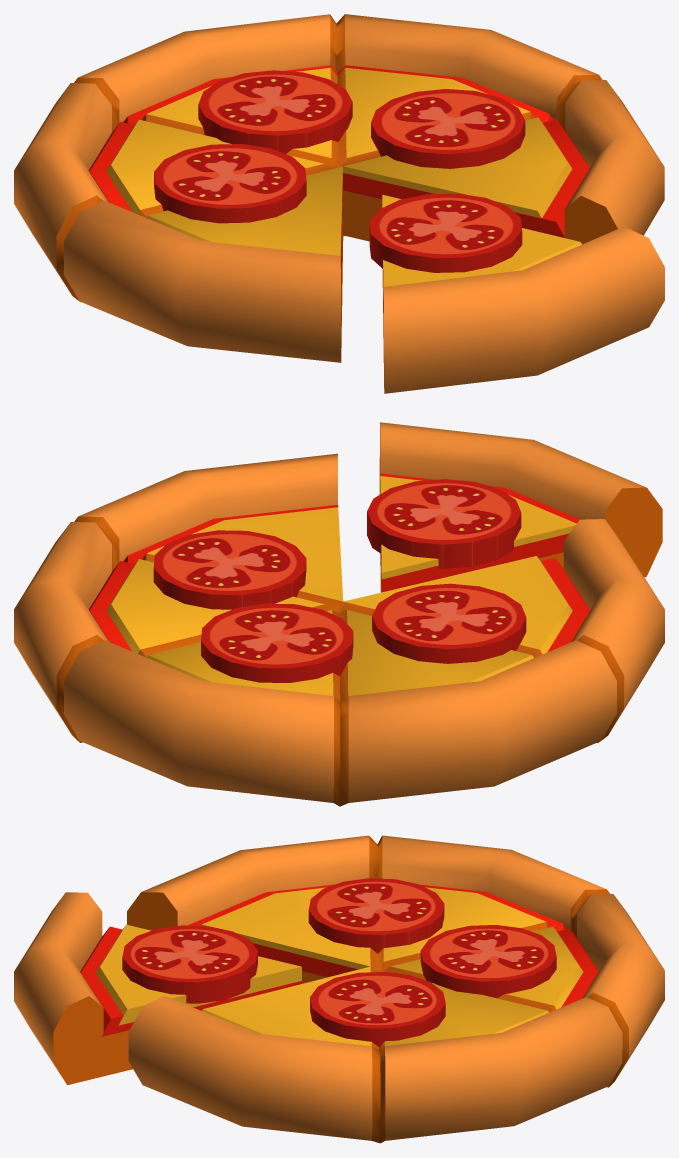
The model's file is Pizza_02_Slice.fbx.
3 views of the same model, one above another, from view 1: azimuth 30°, elevation 25°; view 2: azimuth 150°, elevation 25°; view 3: azimuth 270°, elevation 25° (orthographic). The views are drawn at different scales.
Parts seen in each view (by area): view 1: Pizza_02_Slice; view 2: Pizza_02_Slice; view 3: Pizza_02_Slice.
Boxes of the visible parts, x1=… form: Pizza_02_Slice: x1=14, y1=14, x2=664, y2=393; Pizza_02_Slice: x1=14, y1=422, x2=664, y2=806; Pizza_02_Slice: x1=14, y1=835, x2=664, y2=1143.
Bounding box in the file's own units: 97.61 × 17.04 × 111.
